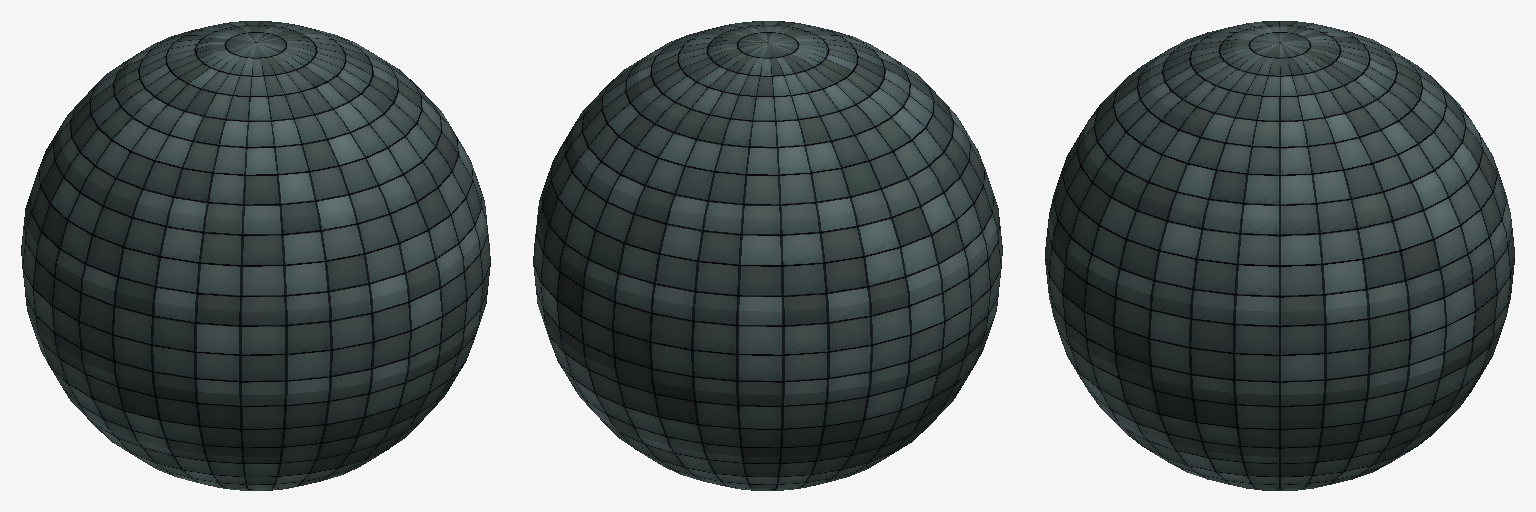
3 renders of one model, left to right at view 1: azimuth 30°, elevation 25°; view 2: azimuth 150°, elevation 25°; view 3: azimuth 270°, elevation 25°, orthographic.
Visible parts, largest first — view 1: Sphere001; view 2: Sphere001; view 3: Sphere001.
Boxes of the visible parts, x1,y1,x2,y2 form: Sphere001: [21, 21, 490, 490]; Sphere001: [533, 21, 1002, 490]; Sphere001: [1045, 21, 1514, 490].
Bounding box in the file's own units: 34.88 × 34.88 × 34.88.
1 materials, 1 textured.